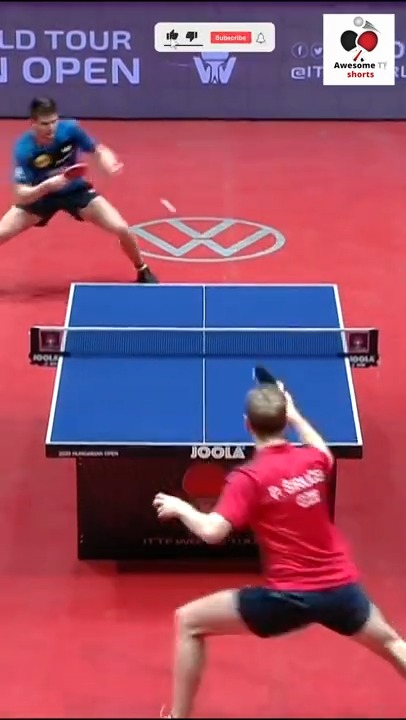Ball: (158, 198, 176, 213)
